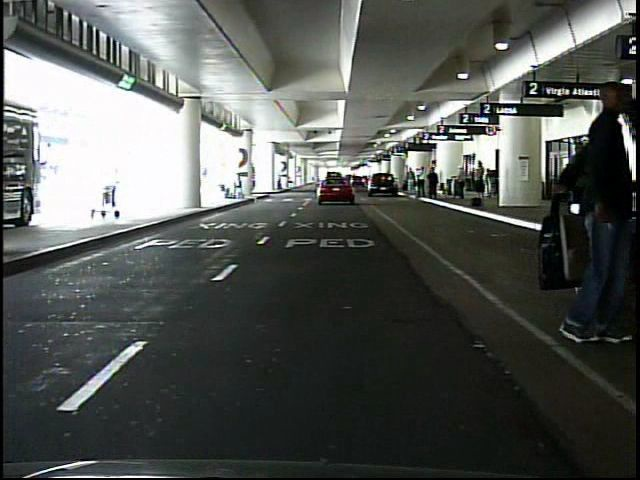person: (550, 84, 628, 349), (564, 140, 597, 247), (472, 162, 486, 207), (454, 166, 468, 202), (427, 167, 440, 202), (415, 165, 427, 200), (406, 168, 416, 197), (275, 172, 284, 189)
